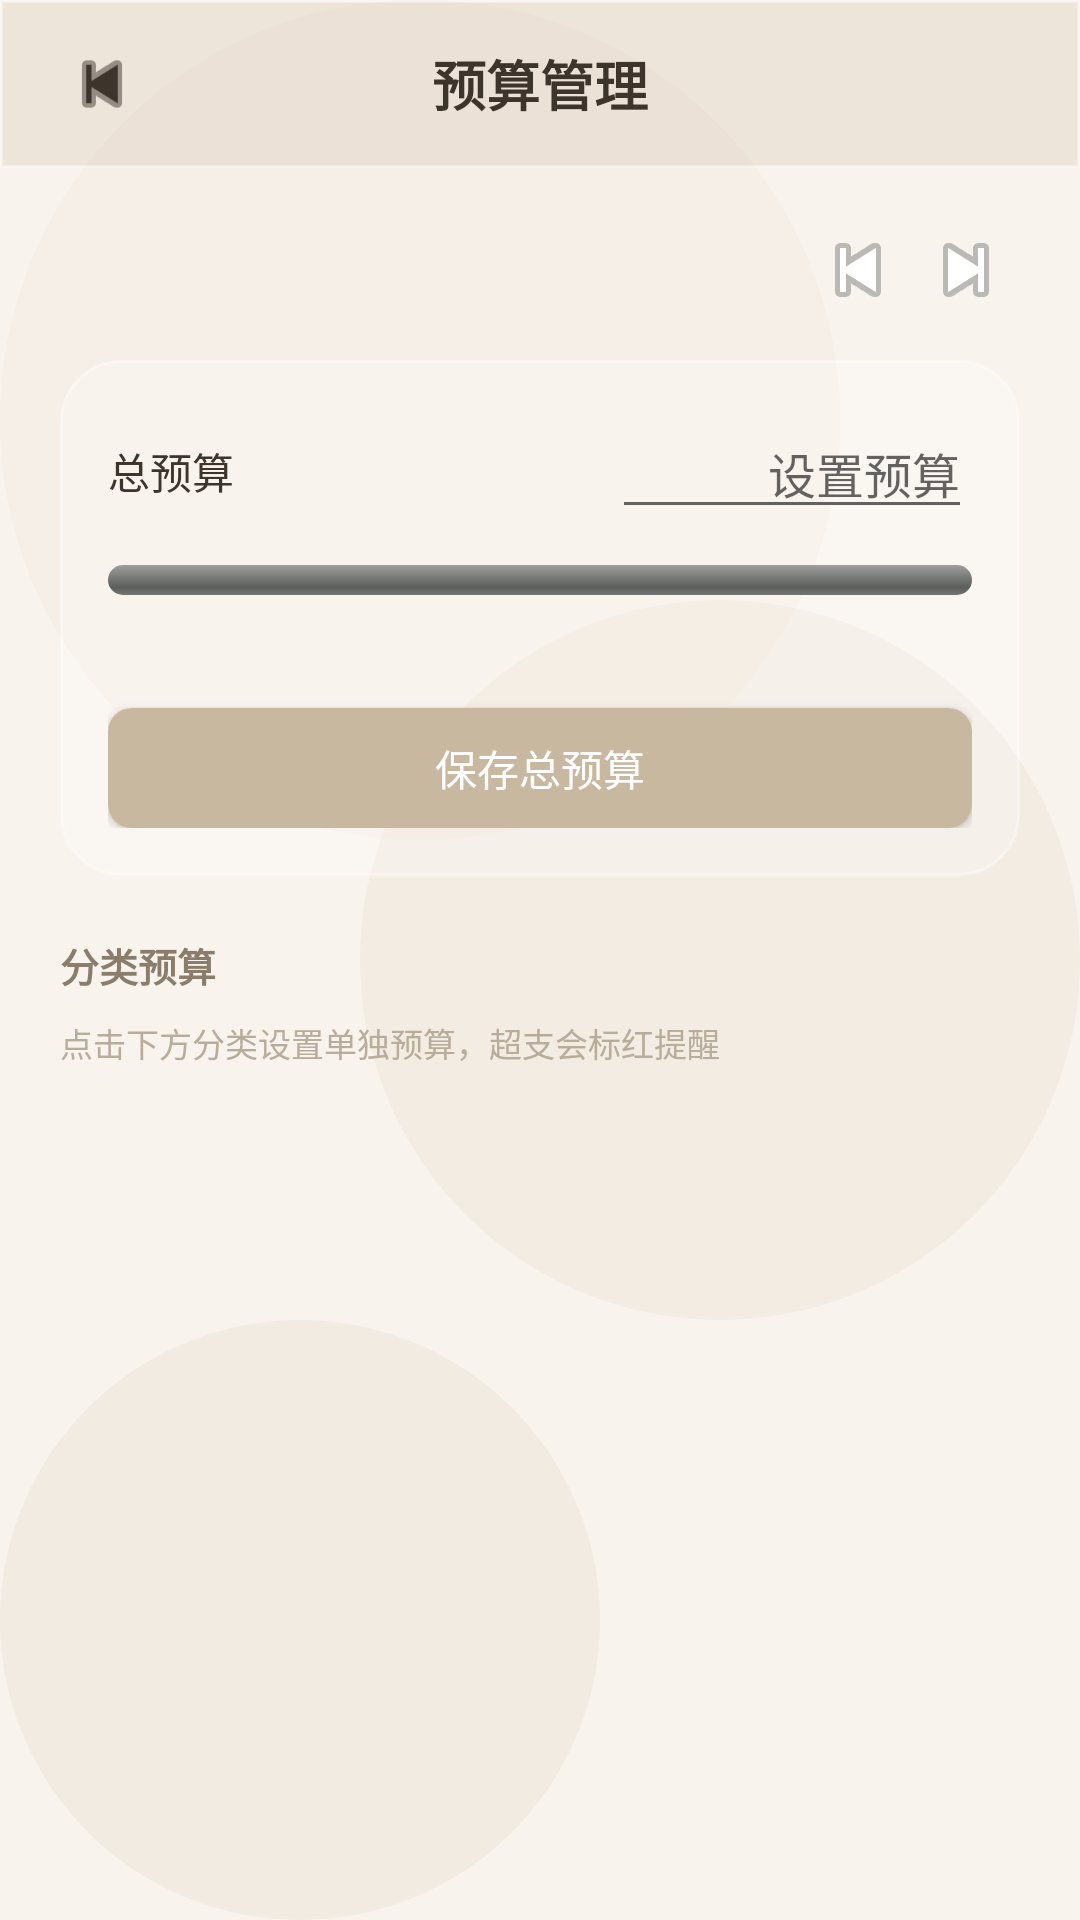

Named icons in this screenshot (1080 x 1920) and their bounding boxes, {"left": x1, "top": y1, "right": x2, "bottom": y2}:
next: {"left": 943, "top": 243, "right": 989, "bottom": 297}
previous: {"left": 82, "top": 60, "right": 122, "bottom": 108}, {"left": 835, "top": 243, "right": 881, "bottom": 297}
